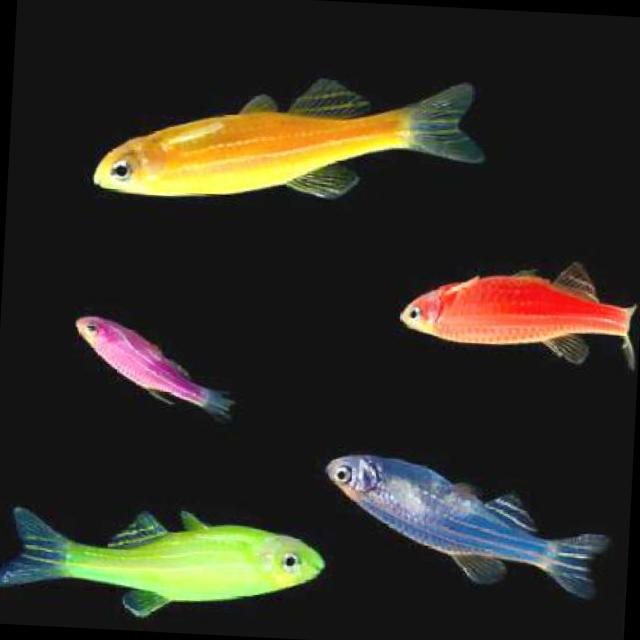ZebraFish: (87, 54, 483, 216), (316, 455, 610, 592), (0, 508, 329, 629), (383, 254, 640, 372), (74, 320, 237, 422)
